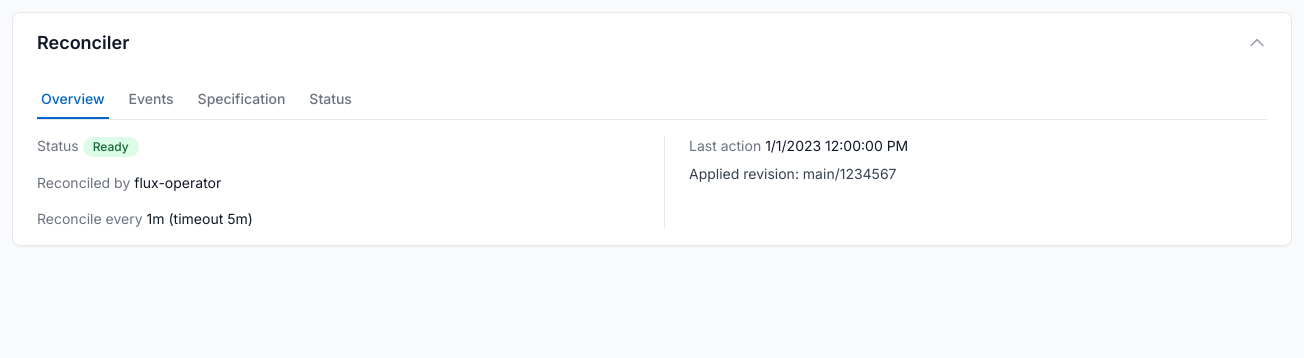
ReconcilerPanel component › should fetch and display events when Events tab is clicked
Click the button "Events" at (151, 100), box [124,81,178,119]
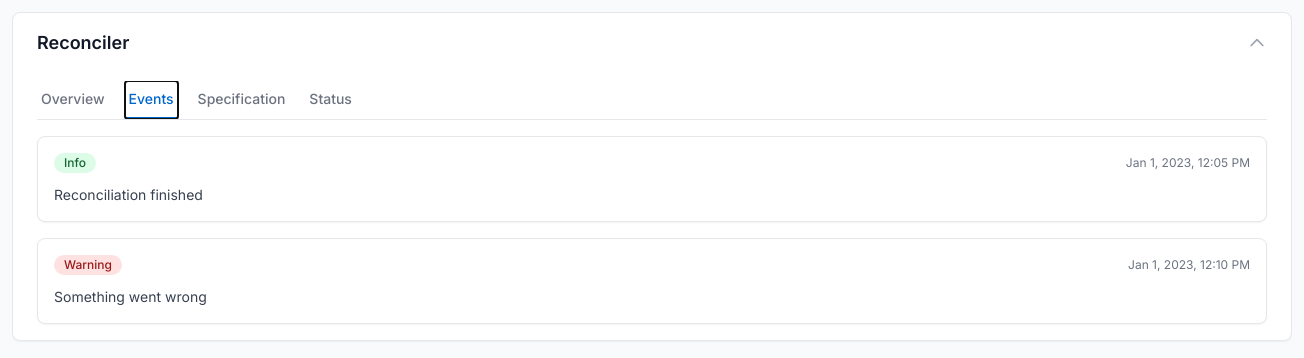
Expected: the text "Reconciliation finished" is shown, [54,186,203,203]
Expected: the text "Something went wrong" is shown, [54,288,207,305]
Expected: the text "Warning" is shown, [54,255,122,275]
